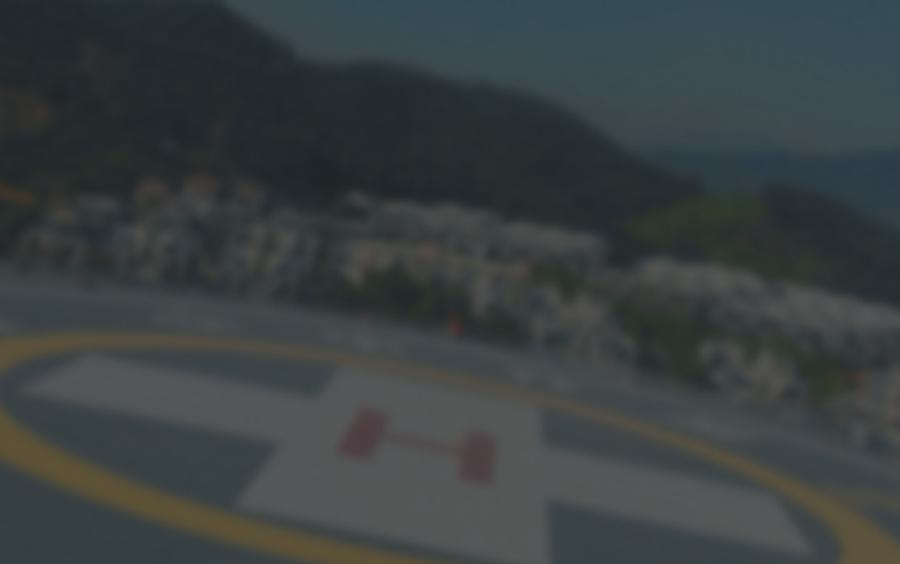Apron: (2, 307, 896, 564)
